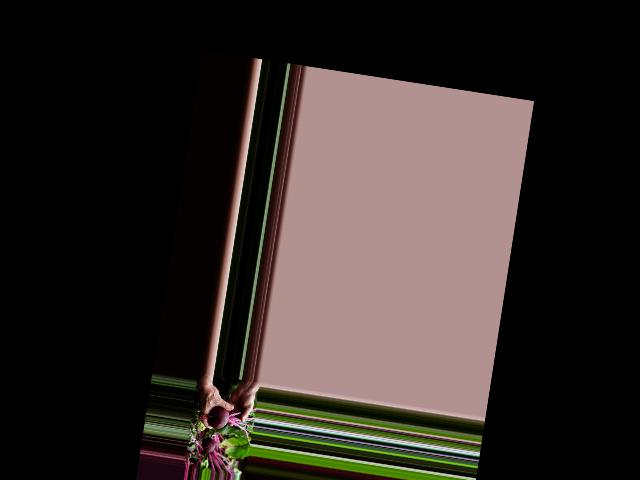beet: (204, 403, 255, 446)
